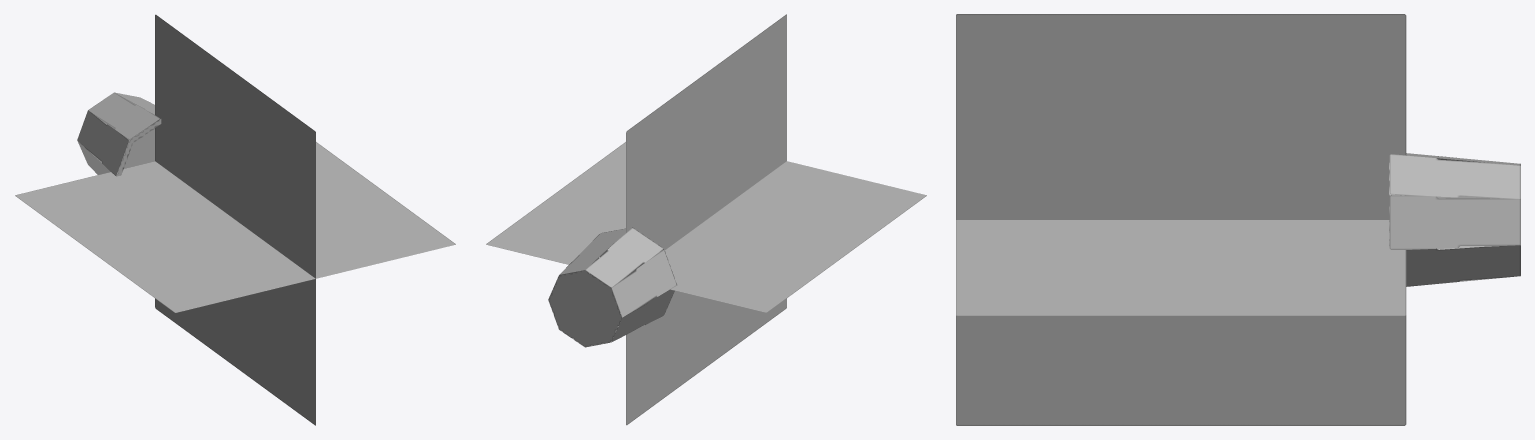
The model's file is pz_plant_native_18.obj.
The picture shows the model from 3 angles, left to right: view 1: azimuth 30°, elevation 25°; view 2: azimuth 150°, elevation 25°; view 3: azimuth 270°, elevation 25°; orthographic projection. The views are drawn at different scales.
Parts seen in each view (by area): view 1: foliage_PNG_crossed_cards, pot_soil_and_rim; view 2: foliage_PNG_crossed_cards, pot_soil_and_rim; view 3: foliage_PNG_crossed_cards, pot_soil_and_rim.
Part boxes in pixels (left/top/right/bottom): foliage_PNG_crossed_cards: left=15, top=14, right=455, bottom=425; pot_soil_and_rim: left=77, top=92, right=161, bottom=176; foliage_PNG_crossed_cards: left=486, top=14, right=926, bottom=425; pot_soil_and_rim: left=548, top=227, right=676, bottom=347; foliage_PNG_crossed_cards: left=956, top=14, right=1406, bottom=425; pot_soil_and_rim: left=1389, top=153, right=1520, bottom=286.
Size of the model in its own units: 0.6547 by 0.6547 by 0.8135.
Materials: 1 (1 with a texture image).
